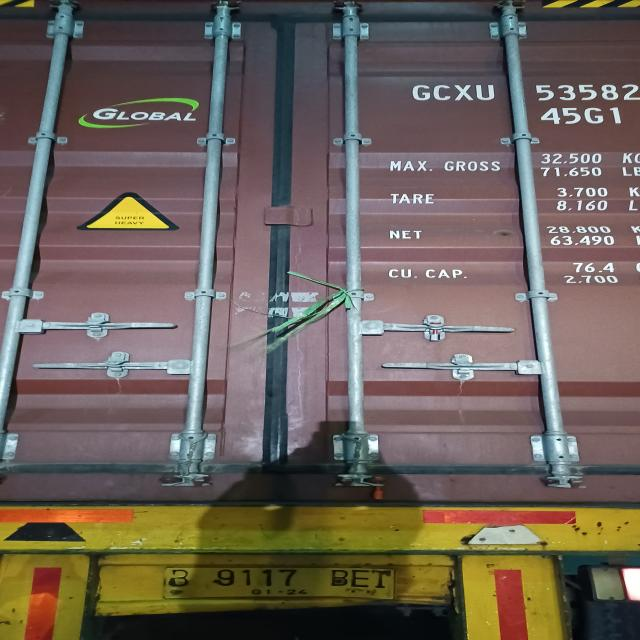seal: (370, 476, 386, 500), (429, 321, 442, 343)
